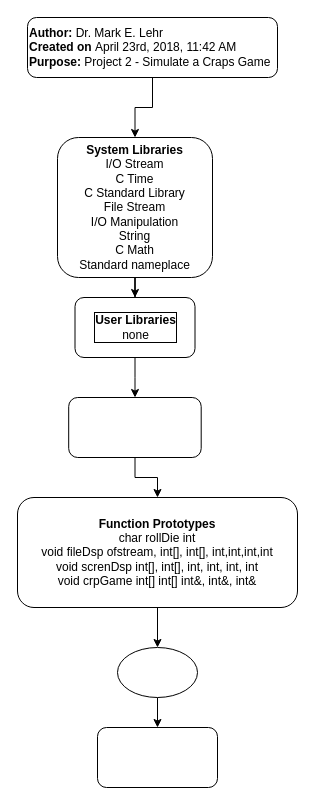
This 315x805 diagram has some shape labels left out. The shapes that lost their labels are listed below. From the top down, each one's centre as x and y in pixels, then its label:
(134,427): Global Constants PERCENT = 100.0f
(157,672): main
